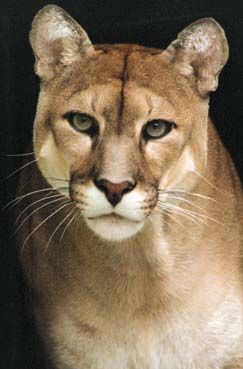OncaParda: (17, 3, 238, 363)
